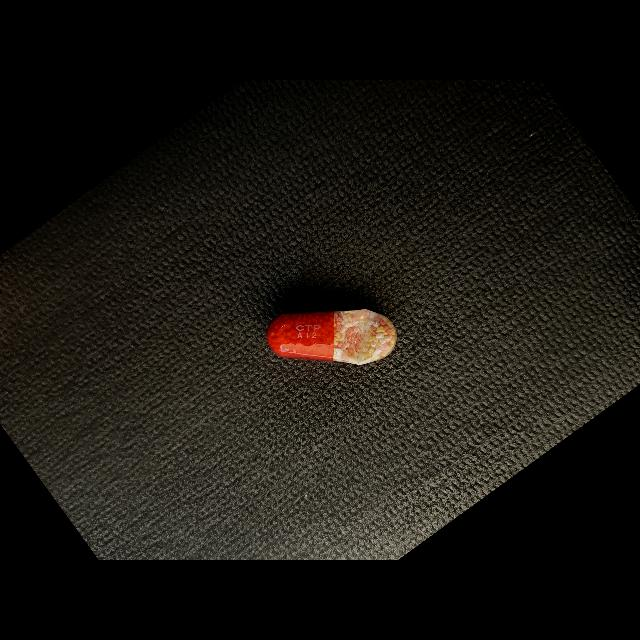Defective Capsule: (267, 309, 397, 365)
